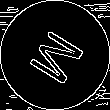M_SE: (21, 22, 89, 88)
